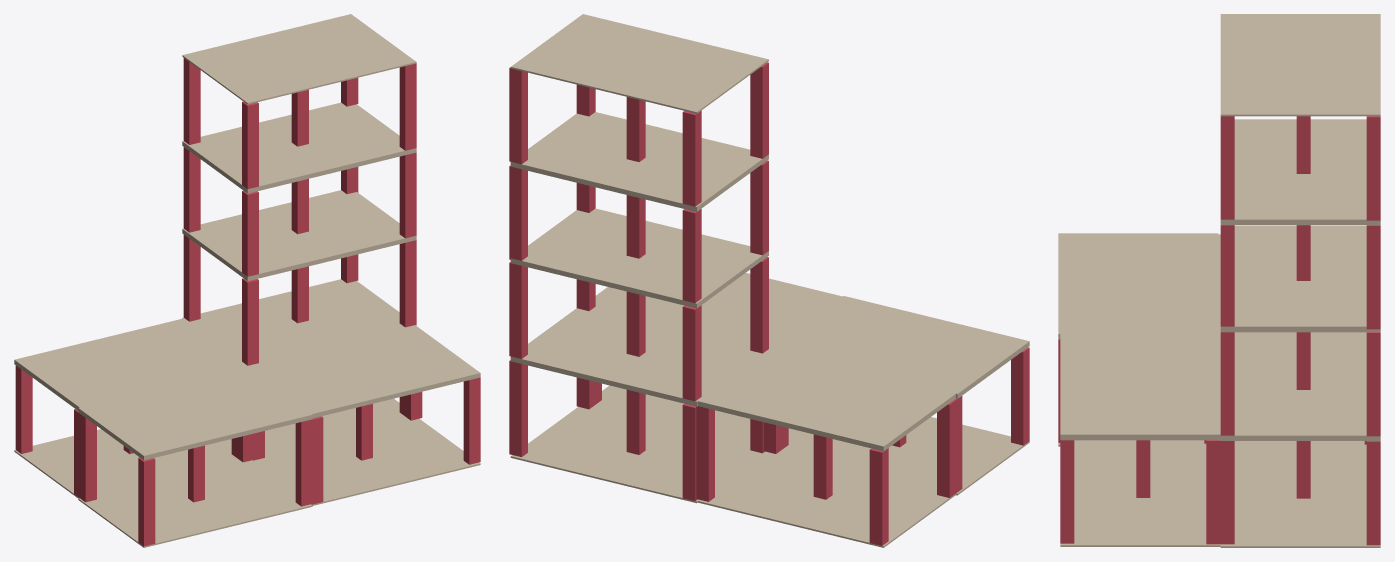
The model's file is Glorious Amur-Trug.glb.
The picture shows the model from 3 angles, left to right: view 1: azimuth 30°, elevation 25°; view 2: azimuth 150°, elevation 25°; view 3: azimuth 270°, elevation 25°; orthographic projection. The views are drawn at different scales.
Visible parts, largest first — view 1: Mesh_Mesh_head_geo.001_lambert2SG.001; view 2: Mesh_Mesh_head_geo.001_lambert2SG.001; view 3: Mesh_Mesh_head_geo.001_lambert2SG.001.
Part boxes in pixels (x1=…): Mesh_Mesh_head_geo.001_lambert2SG.001: x1=14, y1=14, x2=480, y2=547; Mesh_Mesh_head_geo.001_lambert2SG.001: x1=509, y1=14, x2=1029, y2=547; Mesh_Mesh_head_geo.001_lambert2SG.001: x1=1058, y1=14, x2=1380, y2=547.
Bounding box in the file's own units: 0.24 × 0.239 × 0.161.
